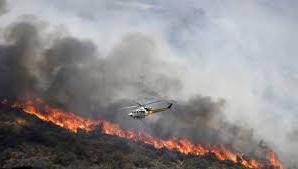fire: (3, 95, 152, 145), (157, 131, 286, 169)
